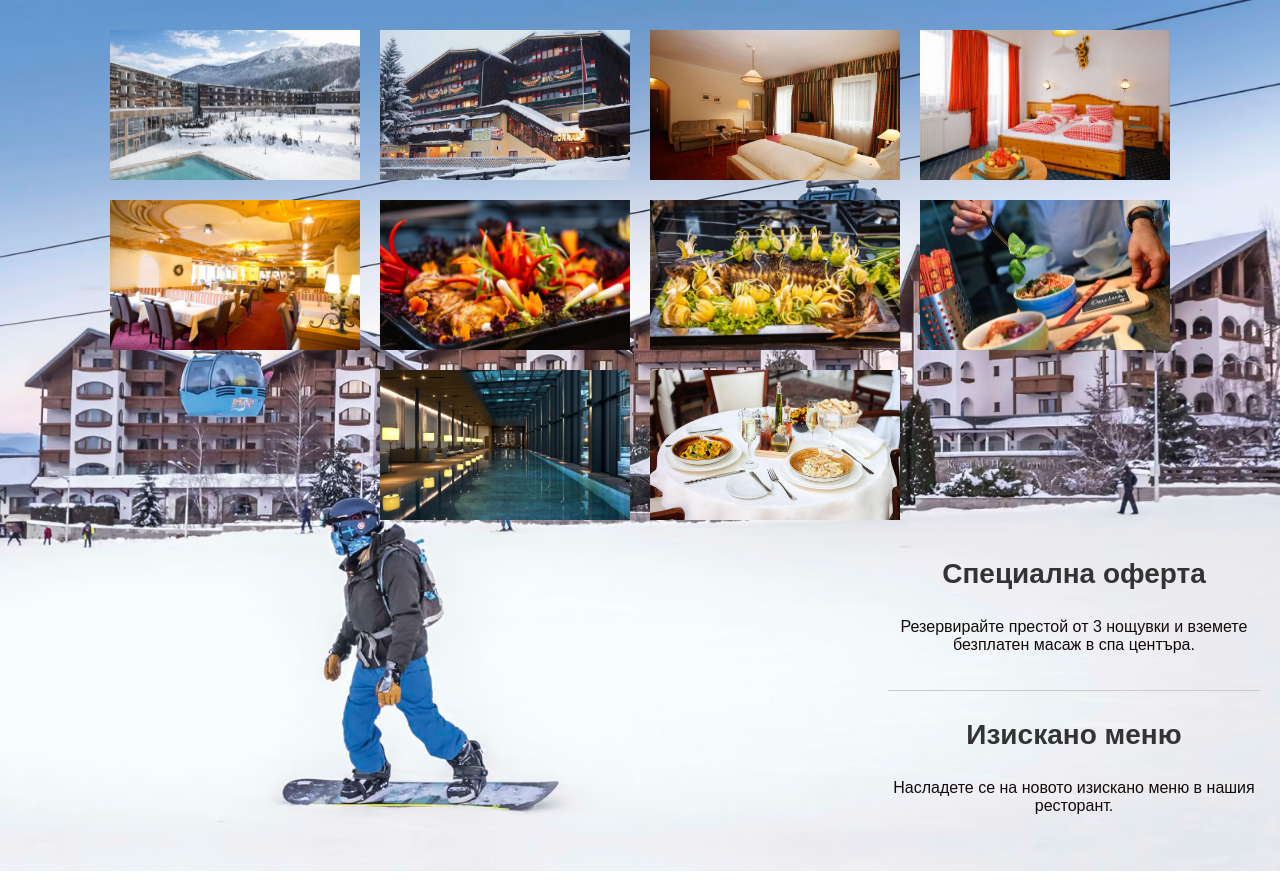
Test: Gallery Component › opens the modal when an image is clicked
This screenshot has width=1280, height=896.
What coordinates should you click on to do the following:
click the picture with alt text "Image 1"
I would click on:
 (235, 105)
Its box is [110,30,360,180].
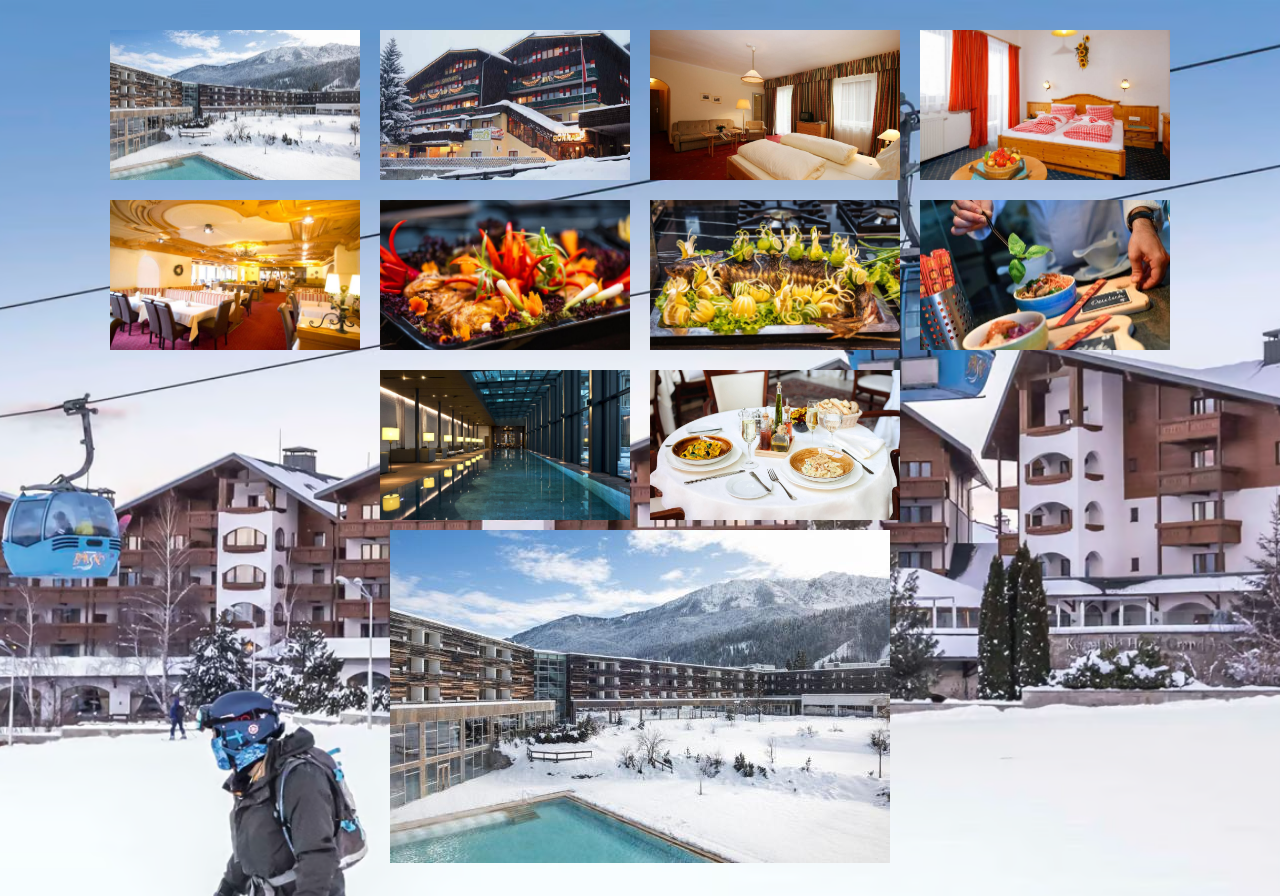
Expected: the picture with alt text "Selected Image" is shown, [390,530,890,863]
